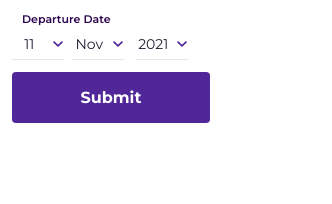
Scenario: [Component]: DropdownDatePicker › should validate max number of days in the future
Click the button "Submit": (111, 98) [12,72,210,123]
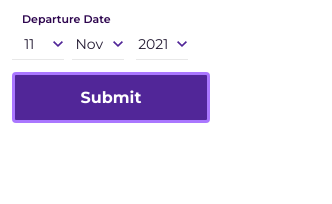
Click the button with test id "departureDate-year-dropdown": (162, 48) [136,35,188,60]
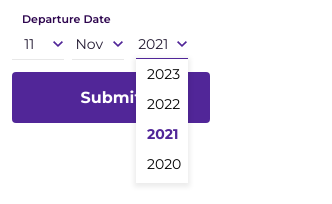
Now the list with test id "date-dropdown" is shown, box [136,58,188,183]
Click the button with test id "dropdown-item-button" showing "2023": (162, 74) [136,59,188,89]
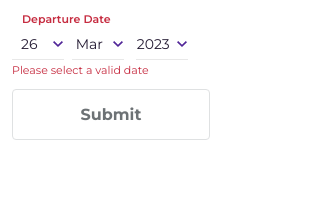
Now the text with test id "error-departureDate" reads "Please select a valid date", box [12,63,149,77]
